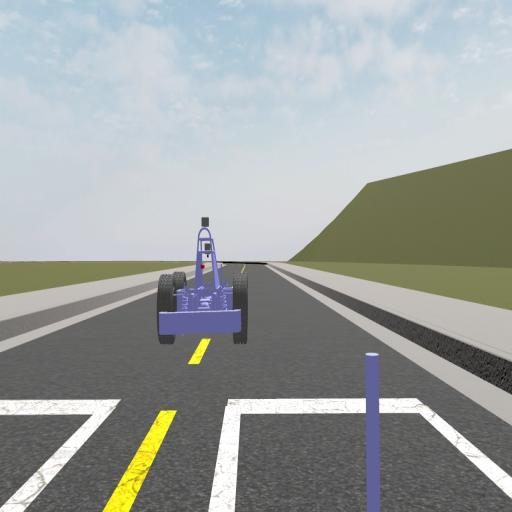ERP-42: (156, 214, 249, 345)
